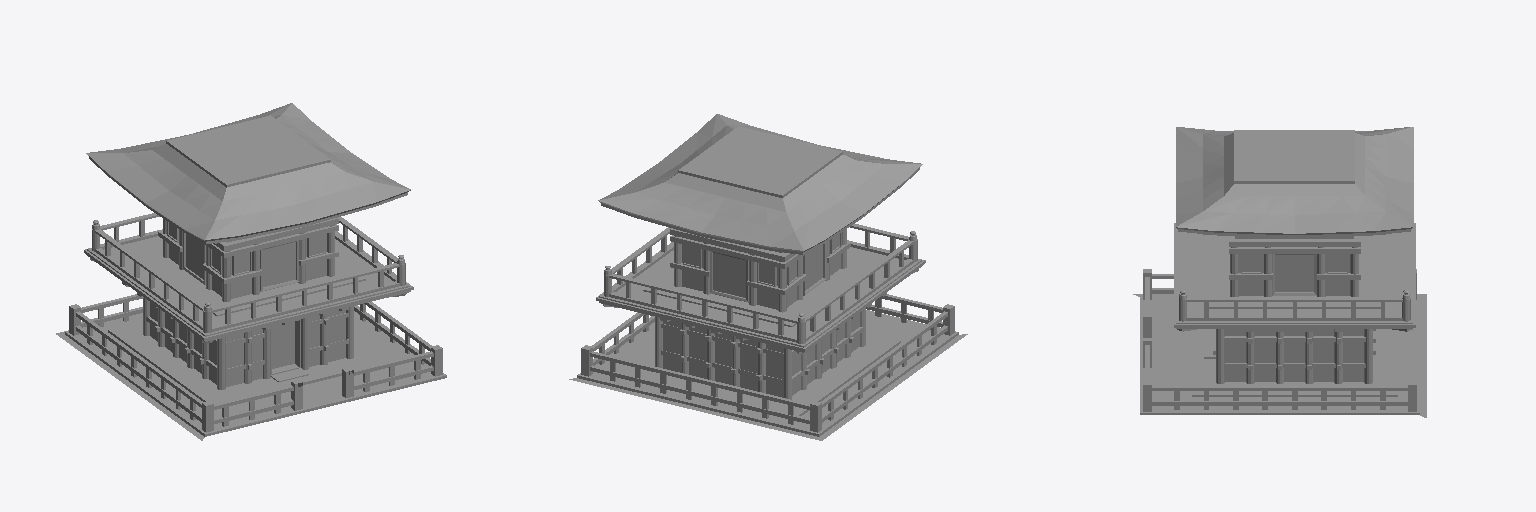
File: Templo2.obj
3 renders of one model, left to right at view 1: azimuth 30°, elevation 25°; view 2: azimuth 150°, elevation 25°; view 3: azimuth 270°, elevation 25°, orthographic.
Parts seen in each view (by area): view 1: Templo2; view 2: Templo2; view 3: Templo2.
Part boxes in pixels (x1,y1,x2,y2): Templo2: (56, 103, 446, 440); Templo2: (569, 114, 967, 440); Templo2: (1133, 127, 1426, 417).
Size of the model in its own units: 83.65 by 63.08 by 83.65.